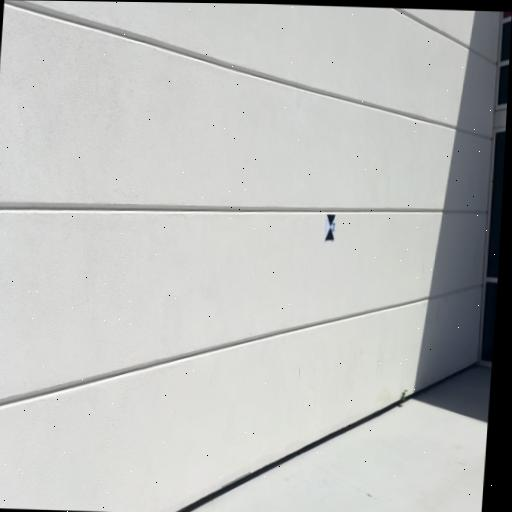target7: (325, 214, 336, 241)
